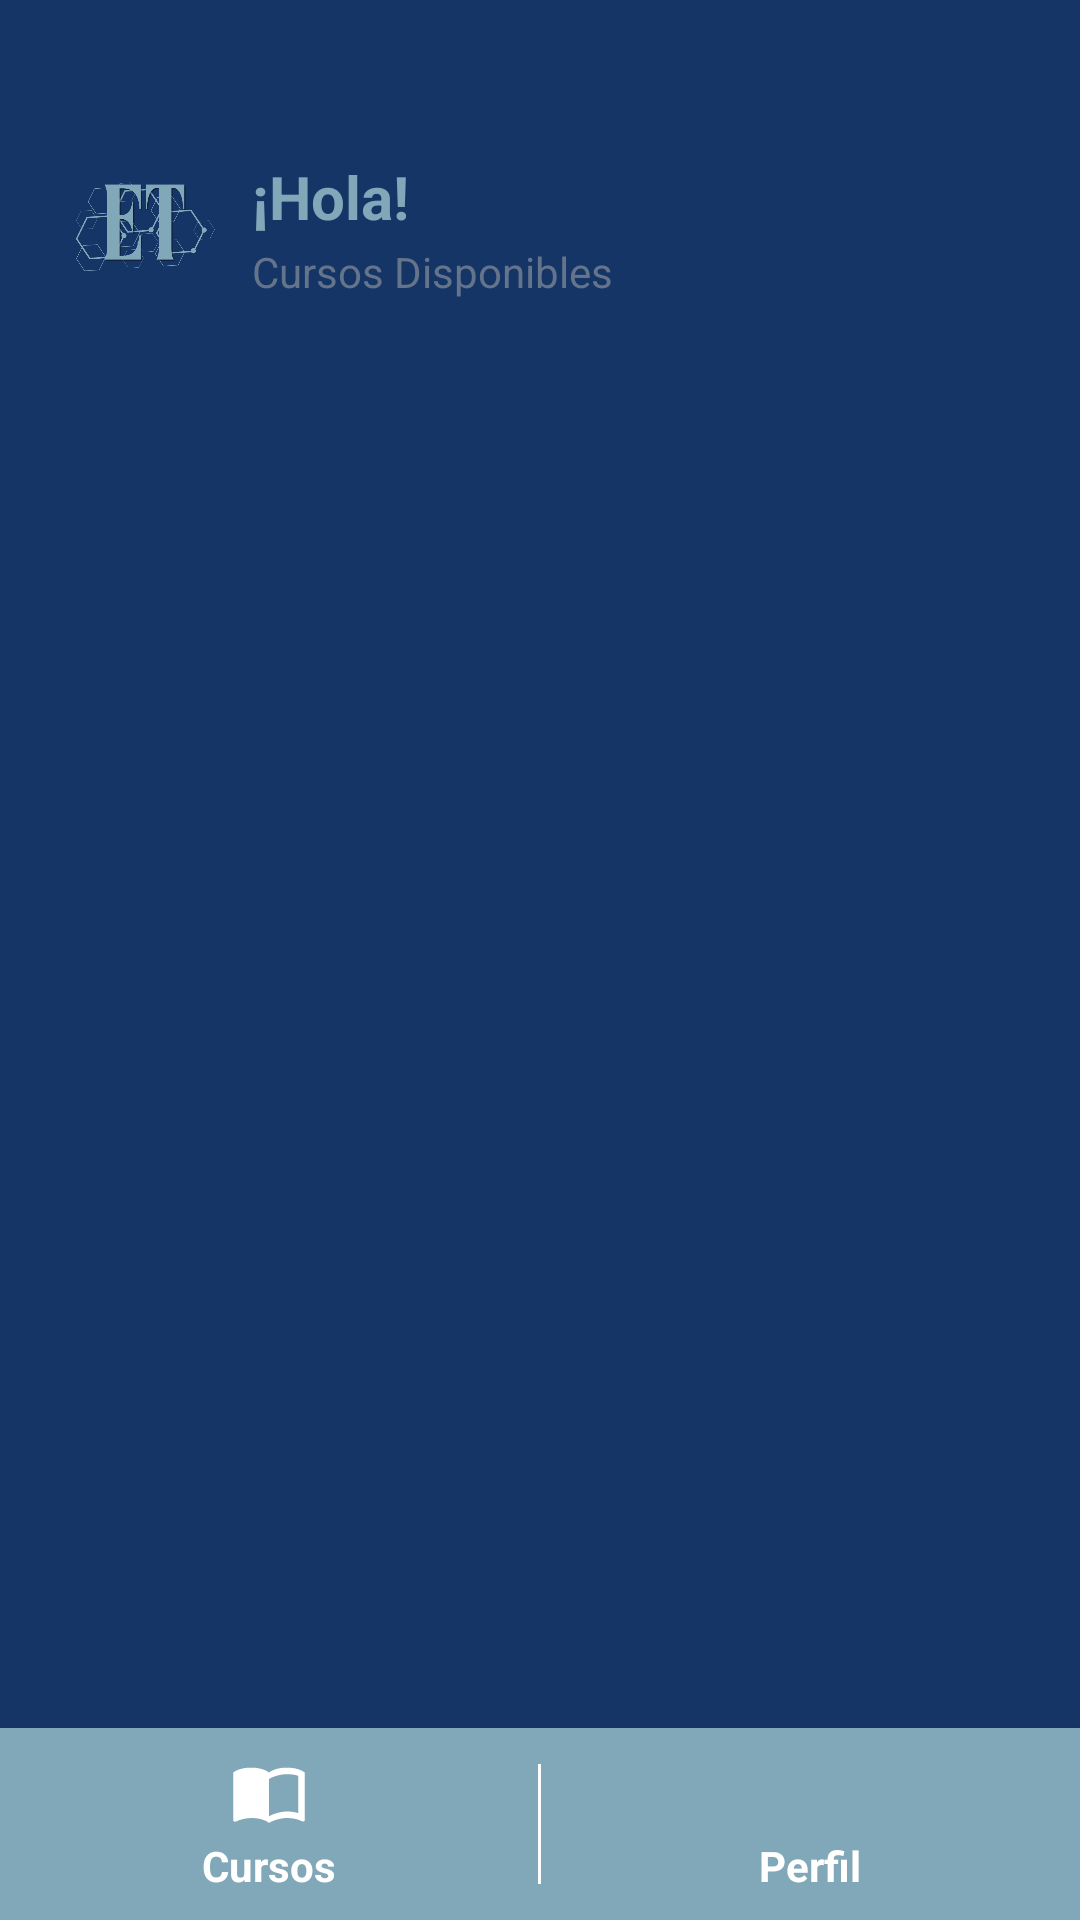

Icons on this 1080px×1920px Android screen, each with its box as box(x1, y1, x2, y2):
book: box(233, 1767, 305, 1823)
